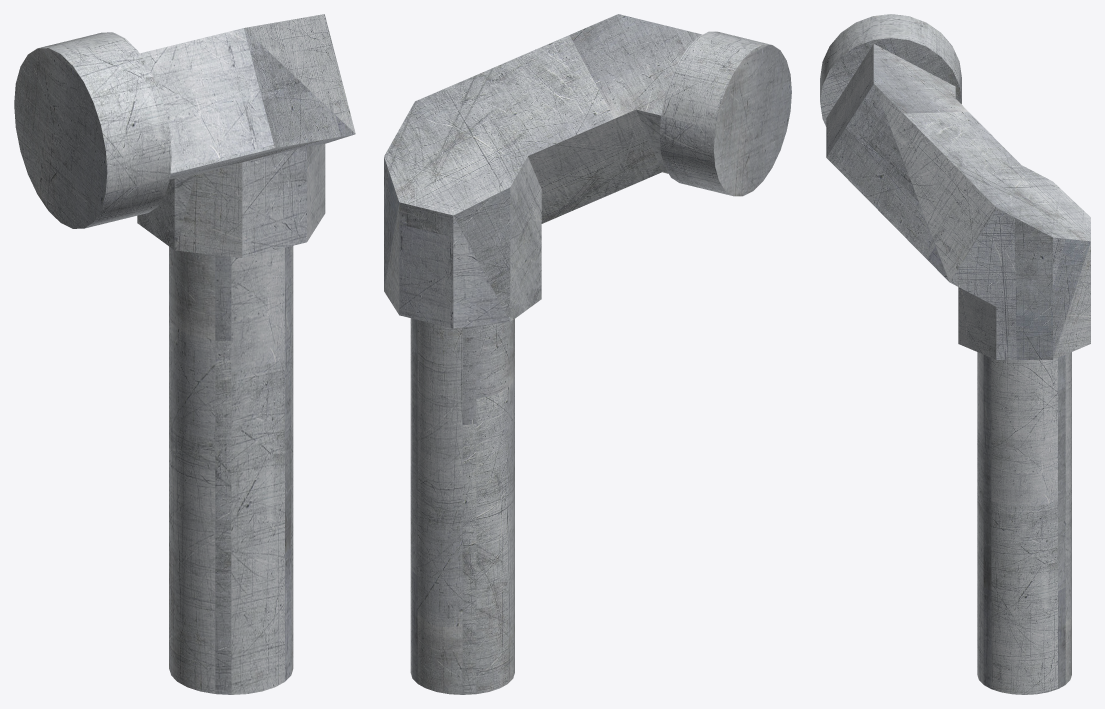
Rendered from WILDCAT_FR_UpperLeg.FBX.
The picture shows the model from 3 angles, left to right: view 1: azimuth 30°, elevation 25°; view 2: azimuth 150°, elevation 25°; view 3: azimuth 270°, elevation 25°; orthographic projection. The views are drawn at different scales.
Parts seen in each view (by area): view 1: LEG_Upper; view 2: LEG_Upper; view 3: LEG_Upper.
Boxes of the visible parts, bbox=[...] form: LEG_Upper: bbox=[14, 14, 355, 694]; LEG_Upper: bbox=[384, 14, 791, 694]; LEG_Upper: bbox=[820, 14, 1090, 694].
Size of the model in its own units: 7.71 by 7.12 by 16.4.
Materials: 1 (1 with a texture image).
